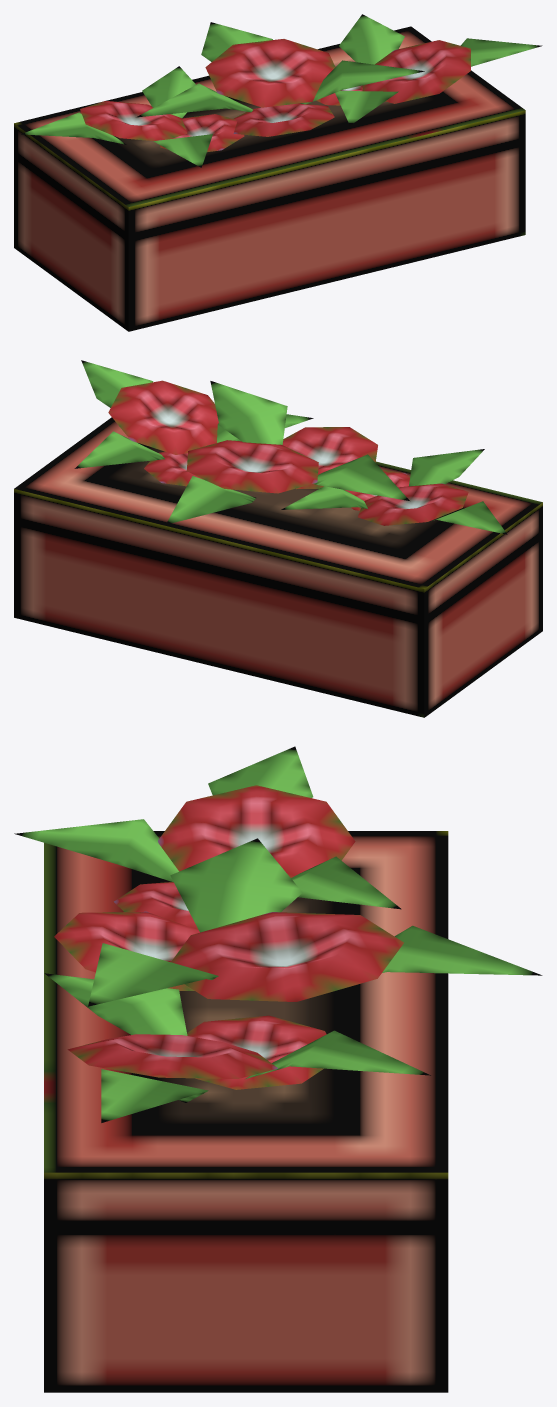
File: deco_pot_flowersRed.FBX
3 views of the same model, one above another, from view 1: azimuth 30°, elevation 25°; view 2: azimuth 150°, elevation 25°; view 3: azimuth 270°, elevation 25° (orthographic). The views are drawn at different scales.
Visible parts, largest first — view 1: deco_pot_flowersRed; view 2: deco_pot_flowersRed; view 3: deco_pot_flowersRed.
Part boxes in pixels (<box>): deco_pot_flowersRed: <box>14,14,542,331</box>; deco_pot_flowersRed: <box>14,360,542,717</box>; deco_pot_flowersRed: <box>14,746,542,1392</box>.
Bounding box in the file's own units: 1.85 × 0.6651 × 1.03.
1 material, 1 textured.
